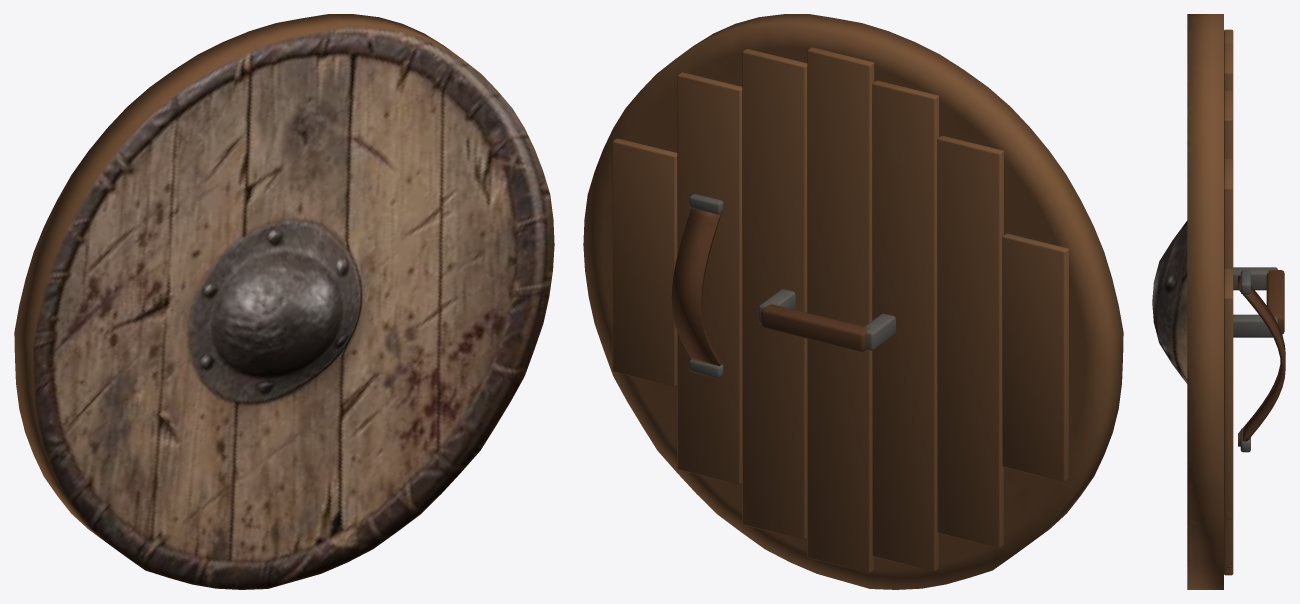
File: shieldmaiden-plain.glb
The picture shows the model from 3 angles, left to right: view 1: azimuth 30°, elevation 25°; view 2: azimuth 150°, elevation 25°; view 3: azimuth 270°, elevation 25°; orthographic projection. The views are drawn at different scales.
Visible parts, largest first — view 1: shieldmaiden-plain; view 2: shieldmaiden-plain; view 3: shieldmaiden-plain.
Boxes of the visible parts, bbox=[...] form: shieldmaiden-plain: bbox=[14, 14, 554, 589]; shieldmaiden-plain: bbox=[583, 14, 1123, 589]; shieldmaiden-plain: bbox=[1152, 14, 1285, 589].
Bounding box in the file's own units: 0.6 × 0.6 × 0.1382.
Materials: 1 (1 with a texture image).
